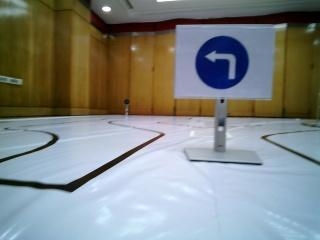left: (181, 27, 275, 100)
